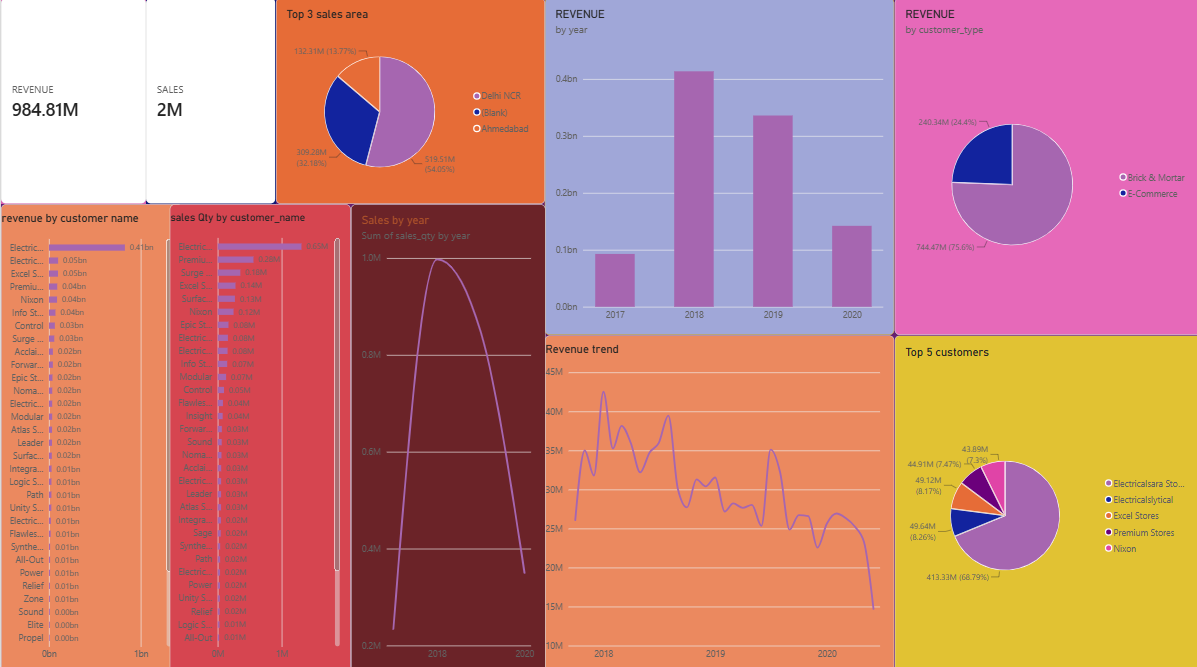

The dashboard page shown, as its layout file describes it:
{"tool":"powerbi","page":{"name":"Page 1","canvas":[1920,1080],"ordinal":0},"visuals":[{"type":"cardVisual","fields":{"Data":["MEASURES (2).REVENUE"]},"box":[0,0,232.6,329.3],"z":500},{"type":"cardVisual","fields":{"Data":["MEASURES (2).QUANTITY"]},"box":[232.6,0,207.9,329.3],"z":501},{"type":"barChart","title":"revenue by customer name","fields":{"Category":["sales customers.custmer_name"],"Y":["MEASURES (2).REVENUE"]},"box":[0,329.3,290.2,751.3],"z":502},{"type":"barChart","title":"sales Qty by customer_name","fields":{"Category":["sales customers.custmer_name"],"Y":["MEASURES (2).QUANTITY"]},"box":[269.6,329.4,289.5,751],"z":503},{"type":"columnChart","fields":{"Category":["sales date.year"],"Y":["MEASURES (2).REVENUE"]},"box":[870.4,0,559.2,539.3],"z":504},{"type":"lineChart","title":"Revenue trend","fields":{"Category":["sales date.cy_date.Variation.Date Hierarchy.Year","sales date.cy_date.Variation.Date Hierarchy.Quarter","sales date.cy_date.Variation.Date Hierarchy.Month","sales date.cy_date.Variation.Date Hierarchy.Day"],"Y":["MEASURES (2).REVENUE"]},"box":[870.4,539.3,559.2,541.1],"z":505},{"type":"pieChart","fields":{"Category":["sales customers.customer_type"],"Y":["MEASURES (2).REVENUE"]},"box":[1429.6,0,490.4,539.3],"z":506},{"type":"pieChart","title":"Top 5 customers","fields":{"Category":["sales customers.custmer_name"],"Y":["MEASURES (2).REVENUE"]},"box":[1429.6,539.3,490.4,541.1],"z":507},{"type":"pieChart","title":"Top 3 sales area","fields":{"Category":["sales markets.markets_name"],"Y":["Sum(sales transactions.sales_amount)"]},"box":[440.5,0,430.2,329.3],"z":508},{"type":"lineChart","title":"Sales by year","fields":{"Category":["sales date.year"],"Y":["Sum(sales transactions.sales_qty)"]},"box":[559.9,329.3,310.8,751.3],"z":509}]}

Visuals, with their boxes in screenshot pixels (x1, y1, x2, y2), scaled from the page's 1920x1080 canvas onto the 1197x667 screenshot:
cardVisual - MEASURES (2).REVENUE: (left=0, top=0, right=145, bottom=203)
cardVisual - MEASURES (2).QUANTITY: (left=145, top=0, right=275, bottom=203)
"revenue by customer name" barChart: (left=0, top=203, right=181, bottom=666)
"sales Qty by customer_name" barChart: (left=168, top=203, right=349, bottom=666)
columnChart - sales date.year x MEASURES (2).REVENUE: (left=543, top=0, right=891, bottom=333)
"Revenue trend" lineChart: (left=543, top=333, right=891, bottom=666)
pieChart - sales customers.customer_type x MEASURES (2).REVENUE: (left=891, top=0, right=1196, bottom=333)
"Top 5 customers" pieChart: (left=891, top=333, right=1196, bottom=666)
"Top 3 sales area" pieChart: (left=275, top=0, right=543, bottom=203)
"Sales by year" lineChart: (left=349, top=203, right=543, bottom=666)
